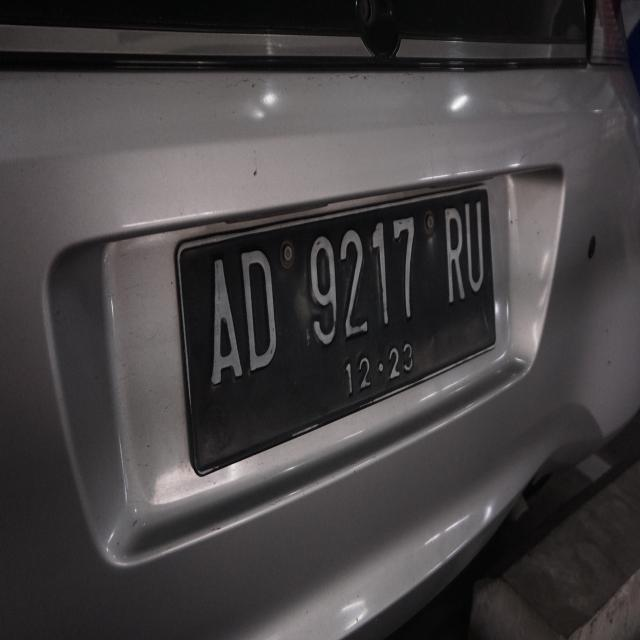1: (366, 213, 398, 339)
2: (332, 225, 372, 341)
7: (388, 214, 427, 324)
9: (304, 229, 341, 352)
A: (200, 250, 248, 387)
D: (233, 244, 283, 372)
R: (436, 196, 467, 306)
U: (461, 190, 488, 292)
